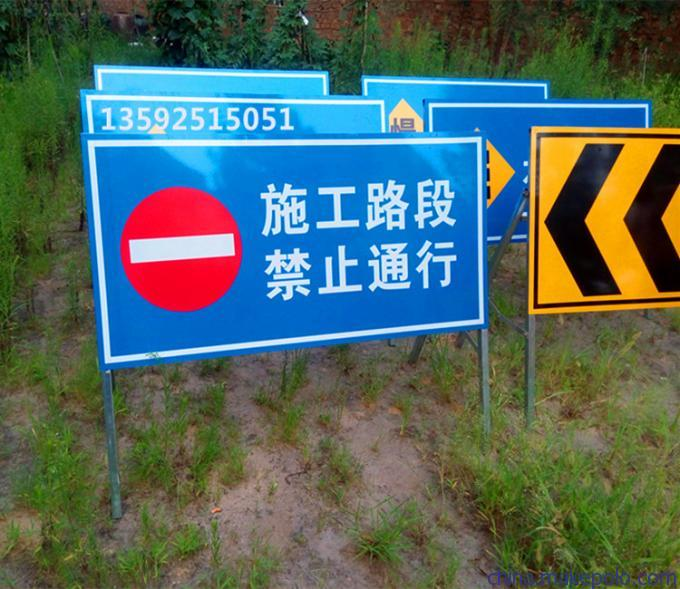sign: (84, 138, 494, 455), (531, 128, 678, 349)
